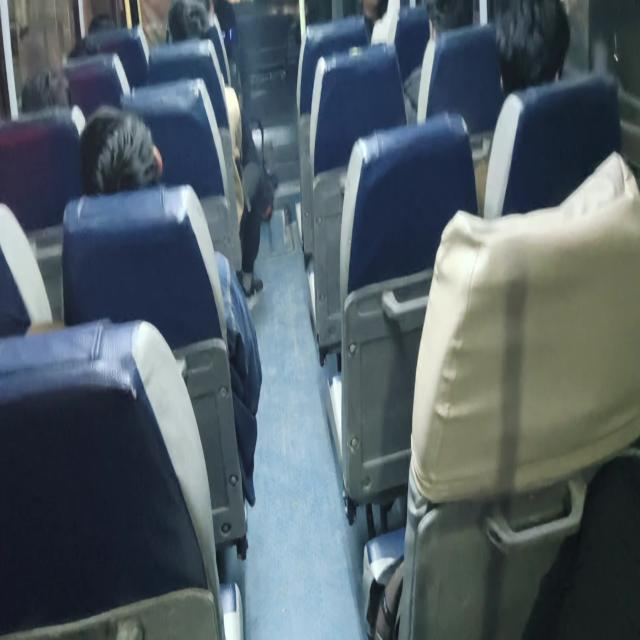person: (78, 104, 262, 508), (166, 0, 277, 297), (78, 104, 163, 195), (494, 0, 570, 95), (20, 66, 72, 113)
